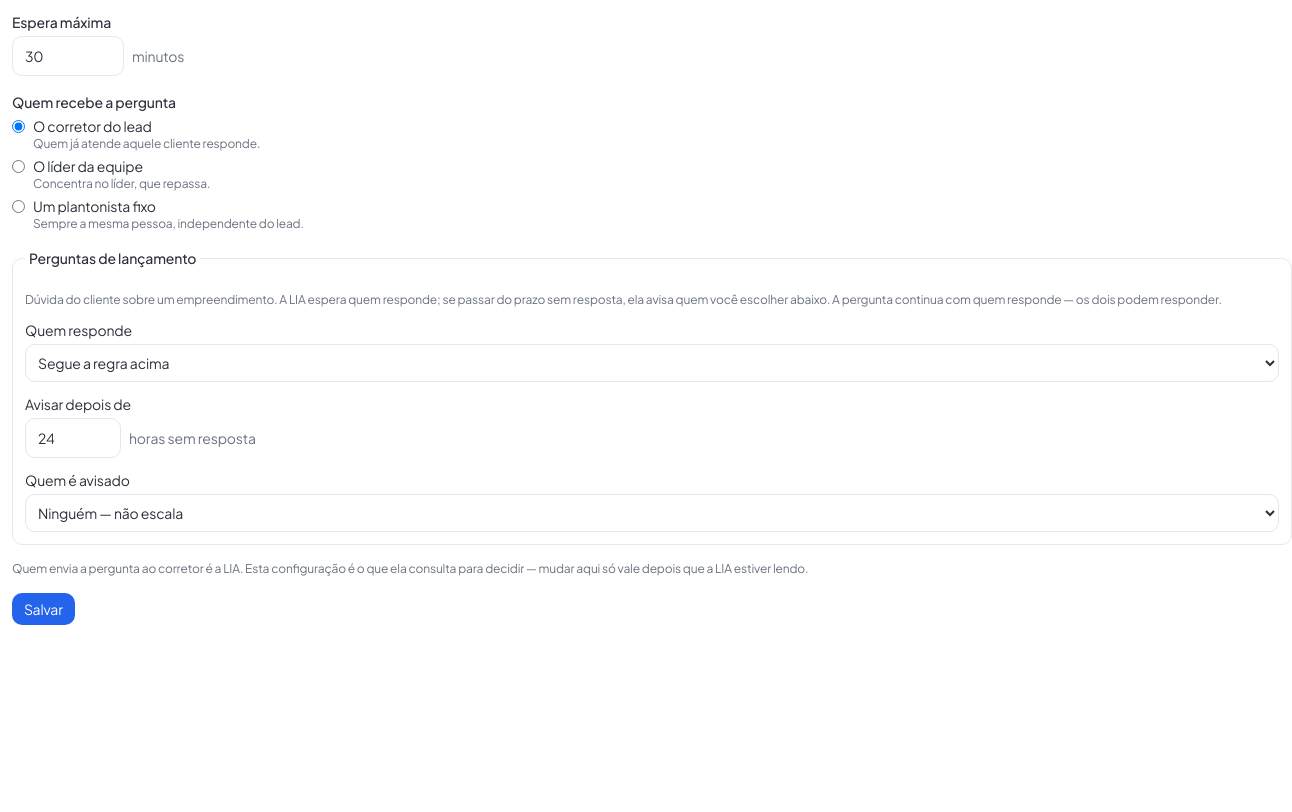
Test: perguntas de lançamento › avisa quando quem recebe o escalonamento não tem WhatsApp
The image size is (1292, 812).
Select "Erick Ferrigatti" in the dropdown labelled "Quem é avisado" at (652, 513), box [25,494,1279,532]
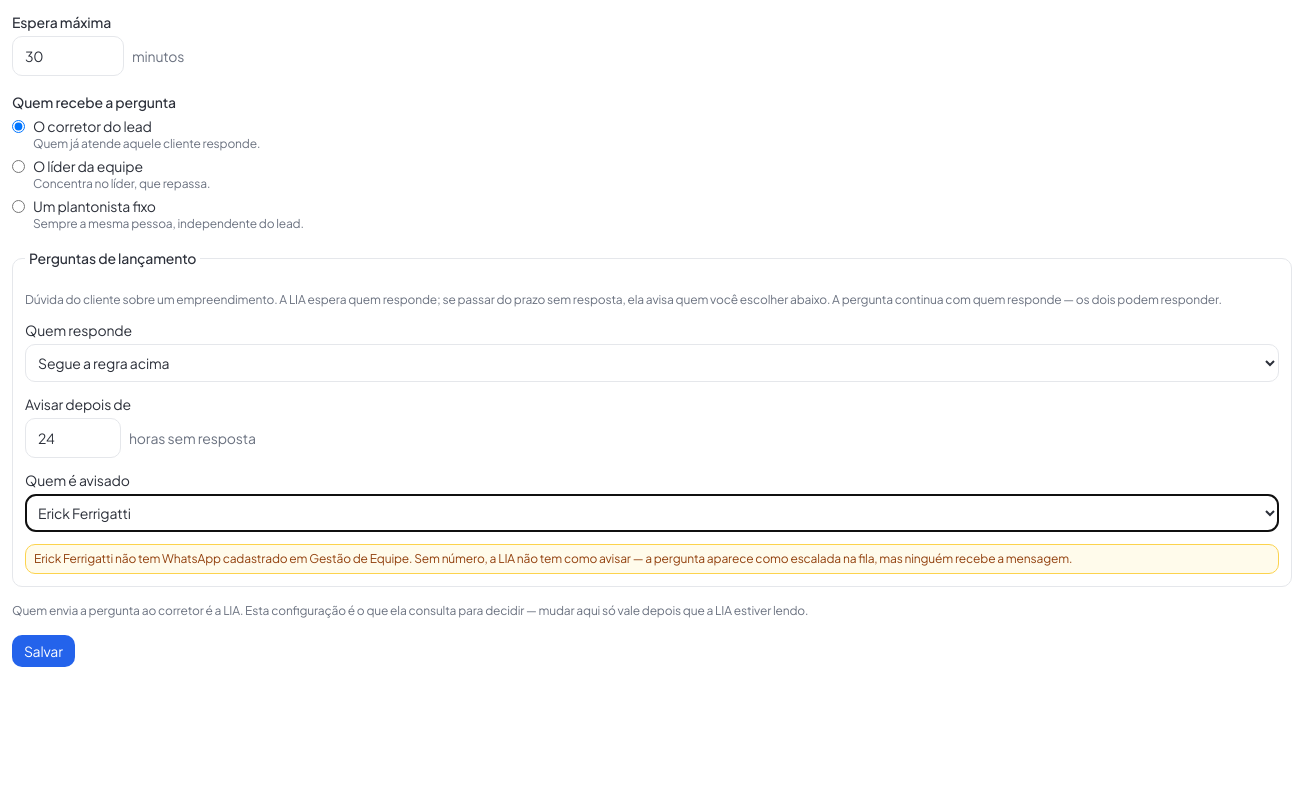
Result: the text "Erick Ferrigatti não tem WhatsApp cadastrado" is shown at [25,544,1279,574]
Select "Fernanda Souza" in the dropdown labelled "Quem é avisado" at (652, 513), box [25,494,1279,532]
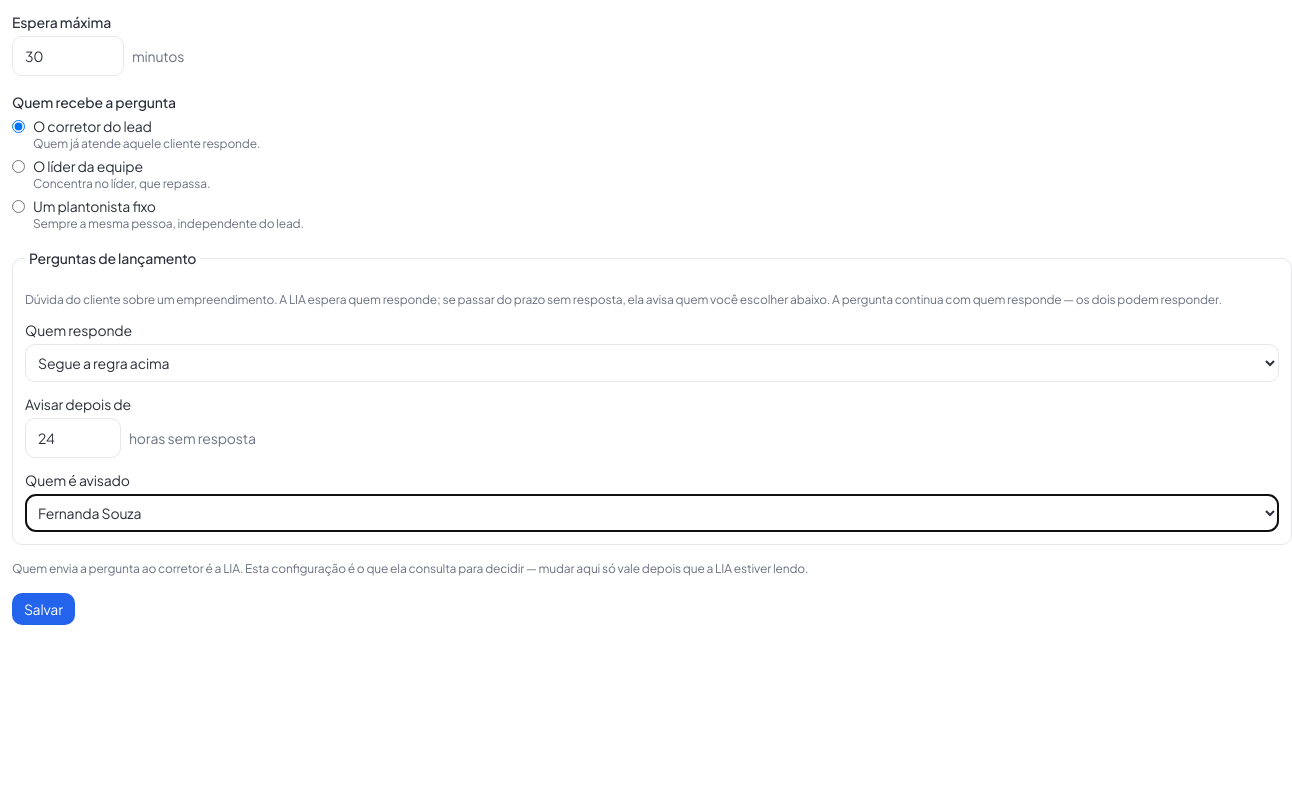
Result: the text "não tem WhatsApp cadastrado" is gone
